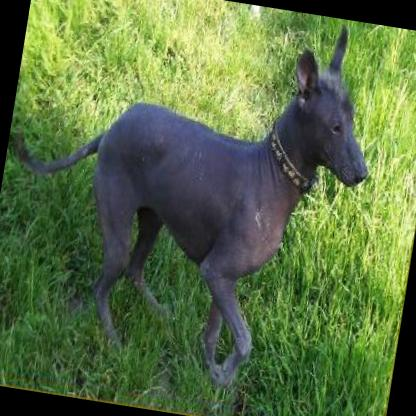Mexican_hairless: (0, 0, 389, 415)
